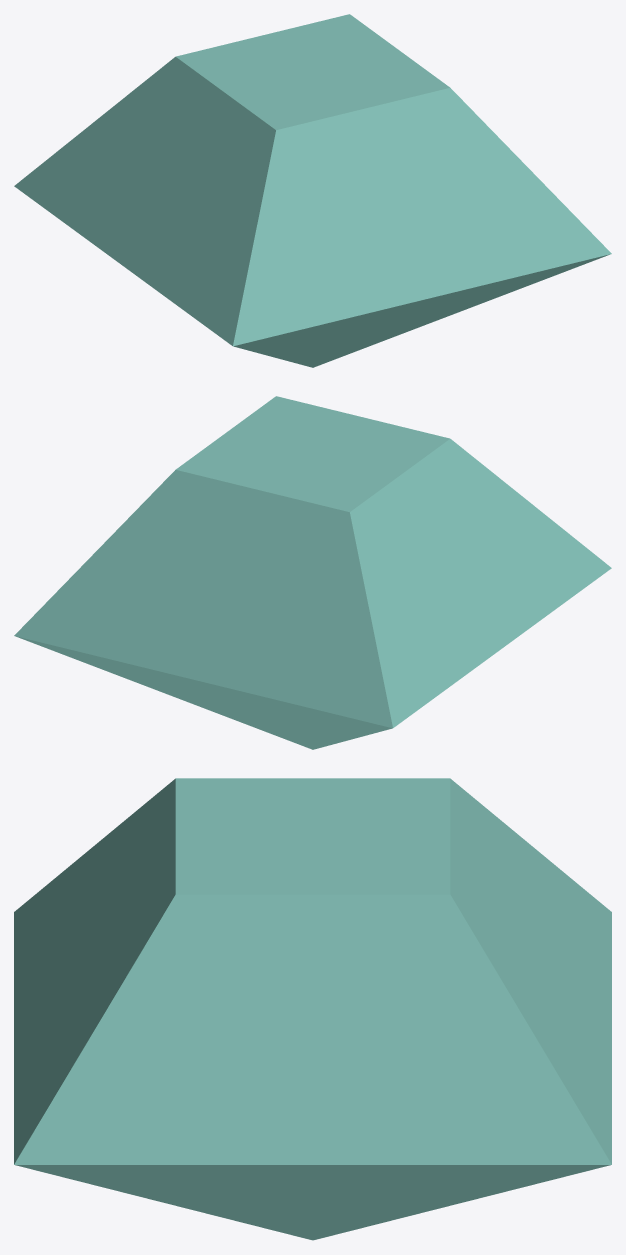
The model's file is WM_Gem.fbx.
The picture shows the model from 3 angles, top to bottom: view 1: azimuth 30°, elevation 25°; view 2: azimuth 150°, elevation 25°; view 3: azimuth 270°, elevation 25°; orthographic projection. The views are drawn at different scales.
Visible parts, largest first — view 1: Gem; view 2: Gem; view 3: Gem.
Boxes of the visible parts, x1=… form: Gem: x1=14, y1=14, x2=611, y2=367; Gem: x1=14, y1=396, x2=611, y2=749; Gem: x1=14, y1=778, x2=611, y2=1240.
Bounding box in the file's own units: 1.13 × 0.8414 × 1.13.
